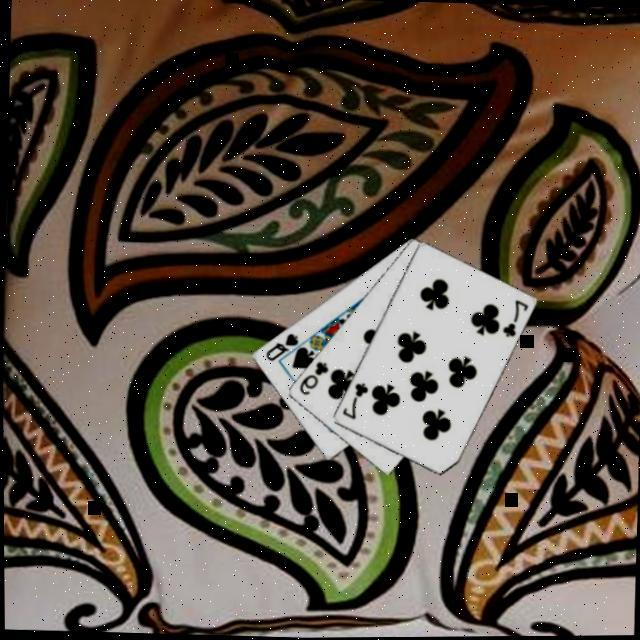6C: (296, 358, 332, 399)
7C: (339, 380, 372, 423), (500, 298, 532, 342)
QS: (263, 330, 302, 366)
